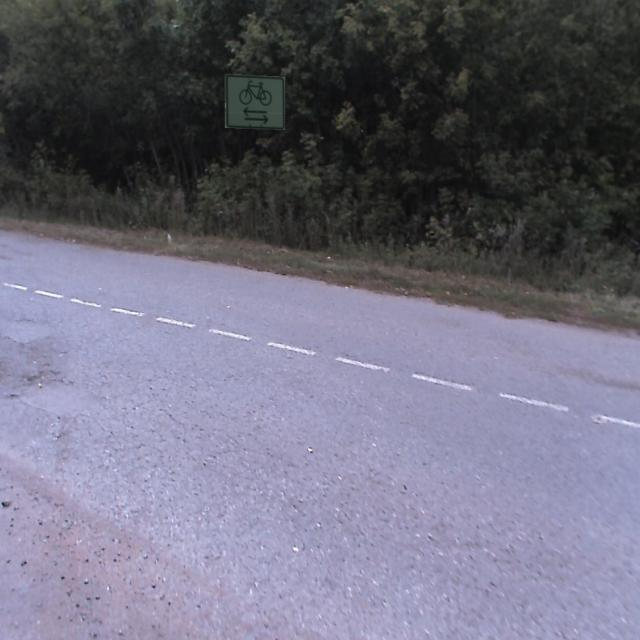road: (0, 231, 639, 639)
